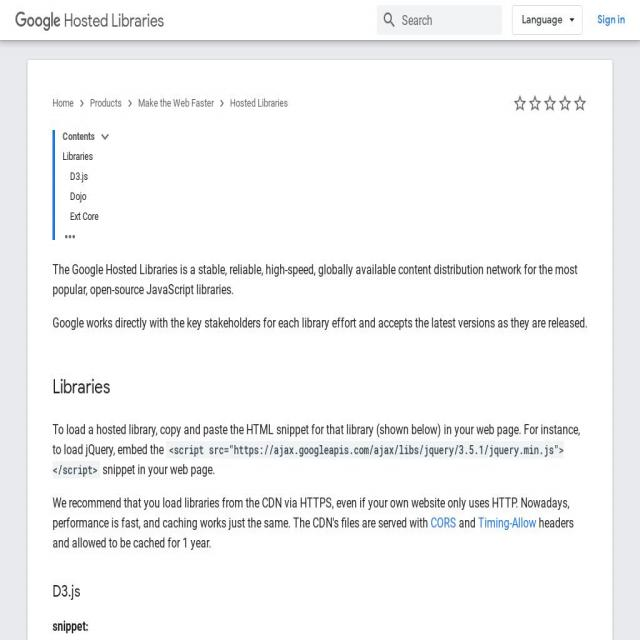content: (26, 60, 612, 640)
language: (512, 3, 584, 35)
login-option: (595, 10, 629, 32)
search: (378, 1, 504, 36)
